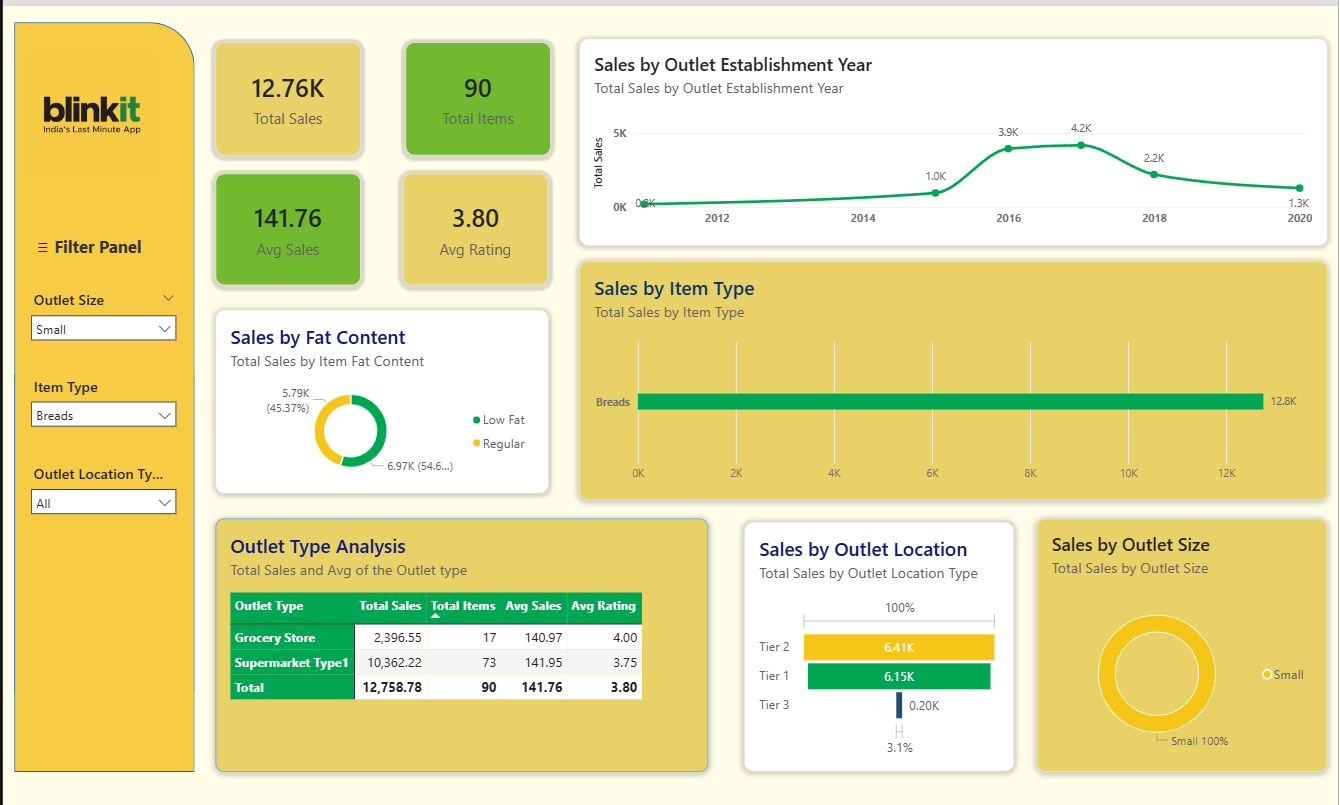

The dashboard page shown, as its layout file describes it:
{"tool":"powerbi","page":{"name":"Page 1","canvas":[1500,900],"ordinal":0},"visuals":[{"type":"card","fields":{"Values":["Key Measures.Total Sales"]},"box":[239,41.2,163.2,126.9],"z":0},{"type":"card","fields":{"Values":["Key Measures.Avg Sales"]},"box":[239,187.9,163.2,125.3],"z":1000},{"type":"card","fields":{"Values":["Key Measures.Avg Rating"]},"box":[450,187.9,163.2,125.3],"z":2000},{"type":"card","fields":{"Values":["Key Measures.Total Items"]},"box":[451.6,41.2,163.2,126.9],"z":3000},{"type":"donutChart","title":" Sales by Fat Content","fields":{"Category":["BlinkIT-Grocery-Data.Item Fat Content"],"Y":["Key Measures.Total Sales"]},"box":[239,341.2,374.2,206],"z":4000},{"type":"clusteredBarChart","title":"Sales by Item Type","fields":{"Category":["BlinkIT-Grocery-Data.Item Type"],"Y":["Key Measures.Total Sales"]},"box":[647.8,286.8,840.7,268.7],"z":5000},{"type":"donutChart","title":"Sales by Outlet Size","fields":{"Category":["BlinkIT-Grocery-Data.Outlet Size"],"Y":["Key Measures.Total Sales"]},"box":[1162.1,575.3,326.4,285.2],"z":6000},{"type":"lineChart","title":"Sales by Outlet Establishment Year","fields":{"Category":["BlinkIT-Grocery-Data.Outlet Establishment Year"],"Y":["Key Measures.Total Sales"]},"box":[647.8,36.3,840.7,232.4],"z":7000},{"type":"pivotTable","title":"Outlet Type Analysis","fields":{"Rows":["BlinkIT-Grocery-Data.Outlet Type"],"Values":["Key Measures.Total Sales","Key Measures.Total Items","Key Measures.Avg Sales","Key Measures.Avg Rating"]},"box":[239,575.3,553.8,285.2],"z":8000},{"type":"funnel","title":" Sales by Outlet Location","fields":{"Category":["BlinkIT-Grocery-Data.Outlet Location Type"],"Y":["Key Measures.Total Sales"]},"box":[832.4,580.2,303.3,280.2],"z":12000},{"type":"shape","box":[13.2,18.1,202.7,842.3],"z":12750},{"type":"slicer","fields":{"Values":["BlinkIT-Grocery-Data.Outlet Location Type"]},"box":[26.4,514.3,173.1,65.9],"z":12812},{"type":"slicer","fields":{"Values":["BlinkIT-Grocery-Data.Outlet Size"]},"box":[26.4,318.1,173.1,64.3],"z":12875},{"type":"slicer","fields":{"Values":["BlinkIT-Grocery-Data.Item Type"]},"box":[26.4,415.4,173.1,67.6],"z":13000},{"type":"textbox","box":[25.9,251.2,160.1,35.7],"z":15500},{"type":"image","box":[25.6,42,148.6,161.9],"z":16501}]}

Visuals, with their boxes in screenshot pixels (x1, y1, x2, y2), scaled from the page's 1500x900 canvas onto the 1340x805 screenshot:
card - Key Measures.Total Sales: 214 37 359 150
card - Key Measures.Avg Sales: 214 168 359 280
card - Key Measures.Avg Rating: 402 168 548 280
card - Key Measures.Total Items: 403 37 549 150
" Sales by Fat Content" donutChart: 214 305 548 489
"Sales by Item Type" clusteredBarChart: 579 257 1330 497
"Sales by Outlet Size" donutChart: 1038 515 1330 770
"Sales by Outlet Establishment Year" lineChart: 579 32 1330 240
"Outlet Type Analysis" pivotTable: 214 515 708 770
" Sales by Outlet Location" funnel: 744 519 1015 770
shape: 12 16 193 770
slicer - BlinkIT-Grocery-Data.Outlet Location Type: 24 460 178 519
slicer - BlinkIT-Grocery-Data.Outlet Size: 24 285 178 342
slicer - BlinkIT-Grocery-Data.Item Type: 24 372 178 432
textbox: 23 225 166 257
image: 23 38 156 182
